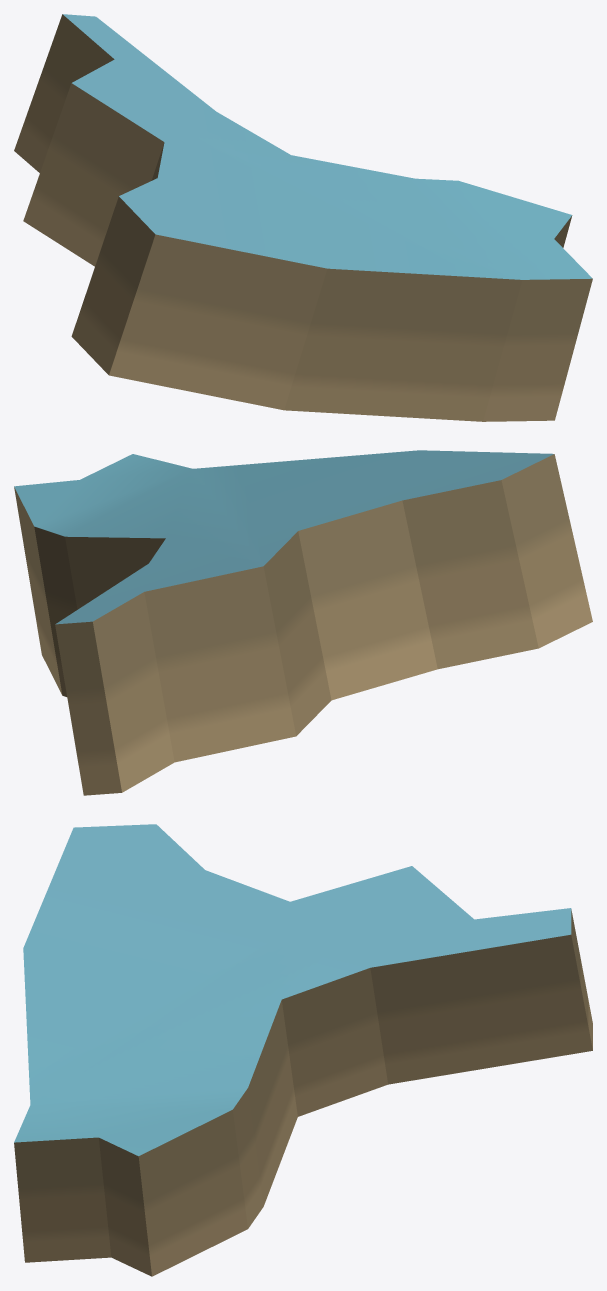
The model's file is 063d_Cameroon.glb.
3 renders of one model, top to bottom at view 1: azimuth 30°, elevation 25°; view 2: azimuth 150°, elevation 25°; view 3: azimuth 270°, elevation 25°, orthographic. The views are drawn at different scales.
Parts seen in each view (by area): view 1: part_0; view 2: part_0; view 3: part_0.
Part boxes in pixels (box(x1,y1,x2,y2)): part_0: box(14, 14, 592, 421); part_0: box(14, 450, 592, 795); part_0: box(14, 824, 592, 1276).
Size of the model in its own units: 0.72 by 0.3727 by 0.7483.
Materials: 1 (1 with a texture image).
